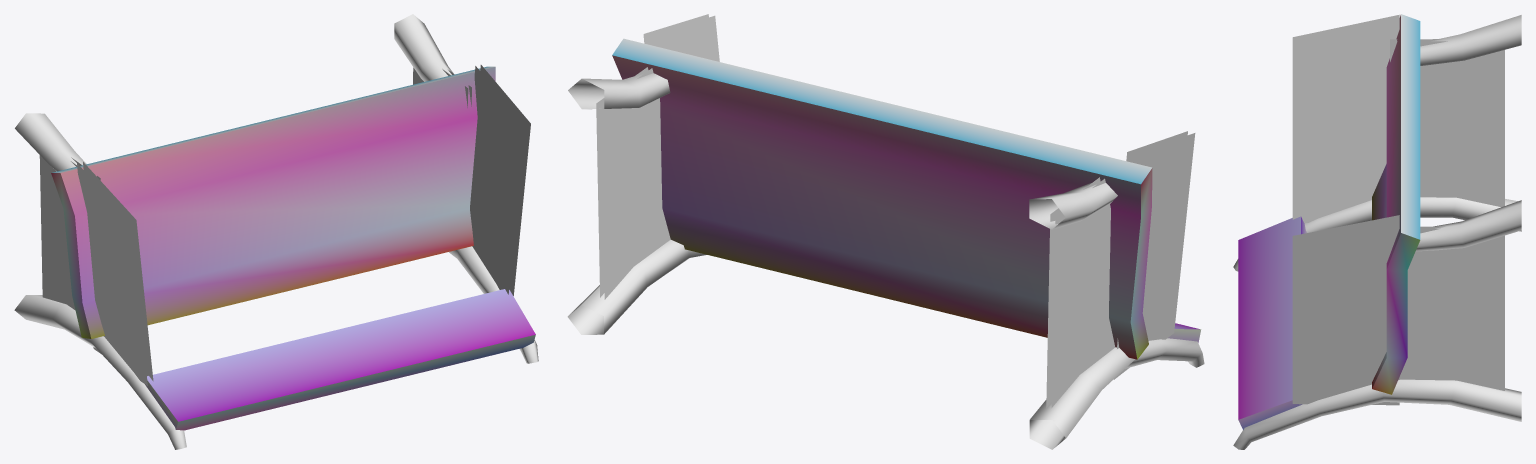
File: Bench.glb
3 renders of one model, left to right at view 1: azimuth 30°, elevation 25°; view 2: azimuth 150°, elevation 25°; view 3: azimuth 270°, elevation 25°, orthographic. The views are drawn at different scales.
Visible parts, largest first — view 1: MeshNode_1, MeshNode_0; view 2: MeshNode_1, MeshNode_0; view 3: MeshNode_0, MeshNode_1.
Part boxes in pixels (left/top/right/bottom): MeshNode_1: left=51, top=66, right=535, bottom=430; MeshNode_0: left=14, top=14, right=538, bottom=449; MeshNode_1: left=612, top=38, right=1201, bottom=359; MeshNode_0: left=567, top=14, right=1204, bottom=449; MeshNode_0: left=1233, top=14, right=1521, bottom=449; MeshNode_1: left=1238, top=14, right=1420, bottom=429.
Bounding box in the file's own units: 3.86 × 2.08 × 2.15.
